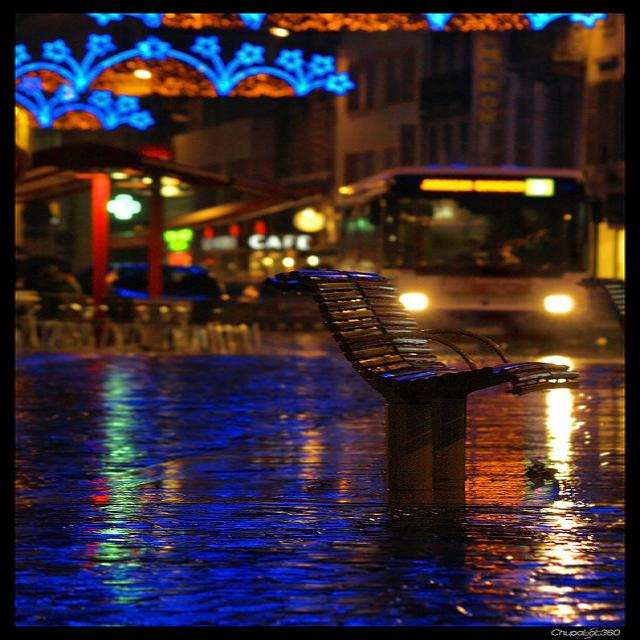Bus: (117, 154, 625, 343)
chair: (272, 248, 583, 462)
